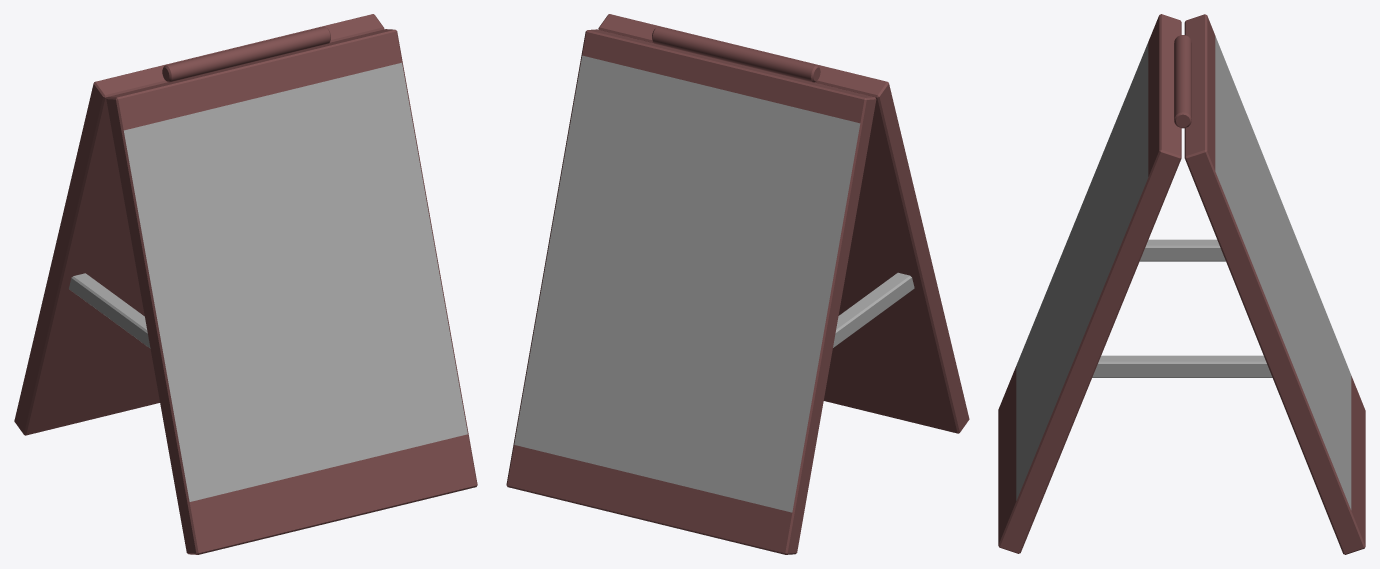
The model's file is sign.fbx.
The picture shows the model from 3 angles, left to right: view 1: azimuth 30°, elevation 25°; view 2: azimuth 150°, elevation 25°; view 3: azimuth 270°, elevation 25°; orthographic projection.
Visible parts, largest first — view 1: pCylinder2; view 2: pCylinder2; view 3: pCylinder2.
Boxes of the visible parts, left/top/right/bottom form: pCylinder2: left=14, top=14, right=477, bottom=554; pCylinder2: left=506, top=14, right=969, bottom=554; pCylinder2: left=998, top=14, right=1365, bottom=554.
Bounding box in the file's own units: 5.29 × 7.44 × 5.98.
